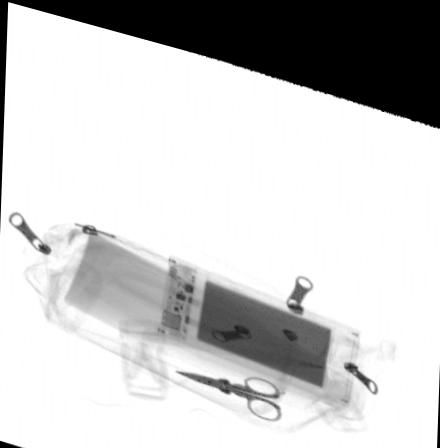Powerbank: (157, 244, 363, 394)
Scissors: (169, 359, 286, 408)
